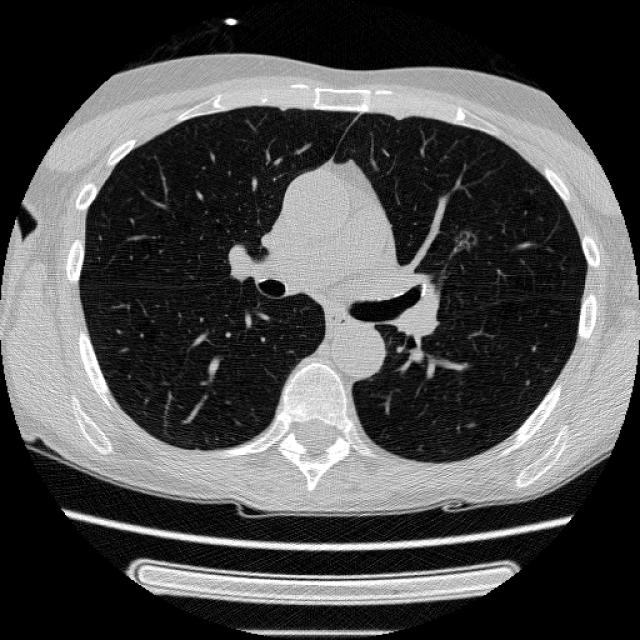nodule: (440, 216, 488, 264)
